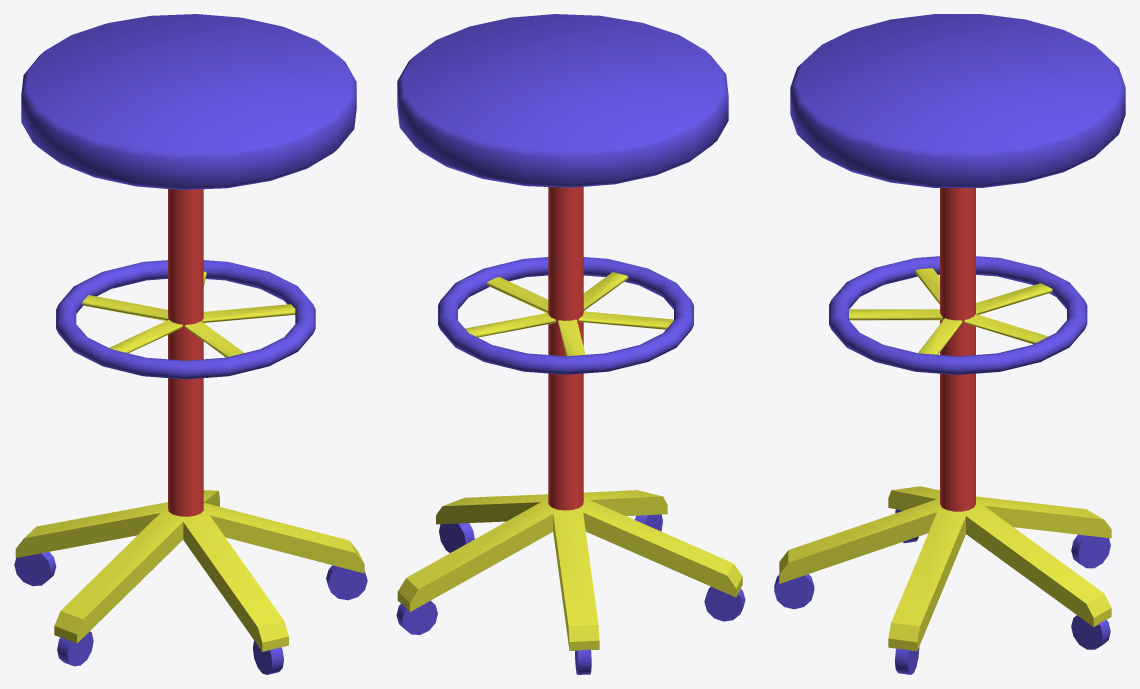
The model's file is Taburete .fbx.
3 renders of one model, left to right at view 1: azimuth 30°, elevation 25°; view 2: azimuth 150°, elevation 25°; view 3: azimuth 270°, elevation 25°, orthographic.
Visible parts, largest first — view 1: Cylinder.026; view 2: Cylinder.026; view 3: Cylinder.026.
Part boxes in pixels (bbox=[...]): Cylinder.026: bbox=[14, 14, 367, 674]; Cylinder.026: bbox=[396, 14, 745, 674]; Cylinder.026: bbox=[774, 14, 1125, 674].
Bounding box in the file's own units: 38 × 62.35 × 37.73.
